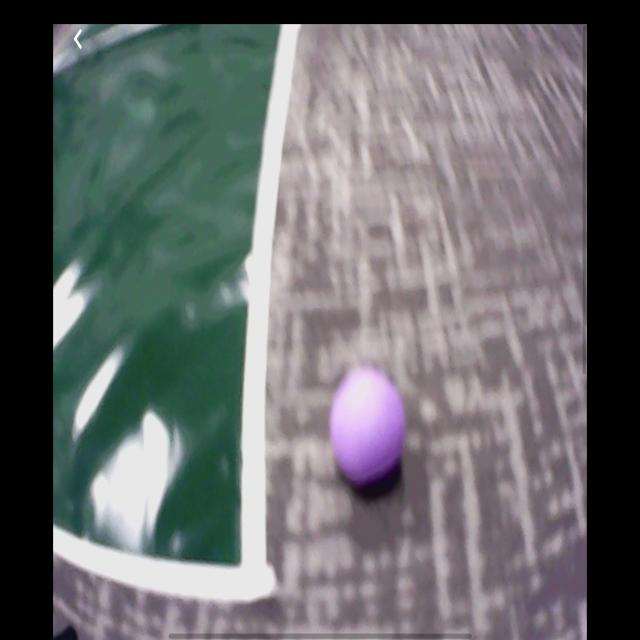ball: (333, 369, 407, 482)
